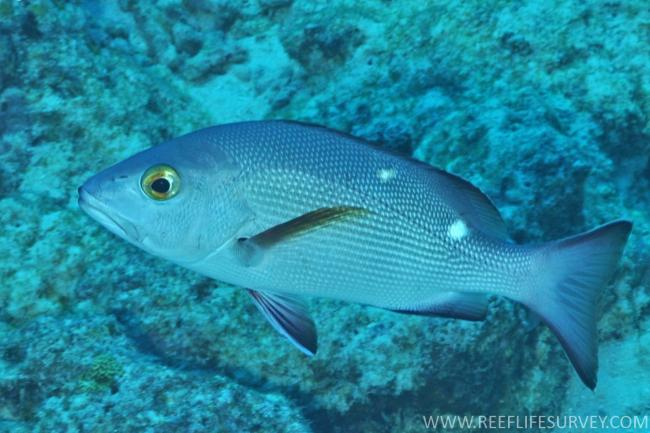fish: (78, 119, 633, 393)
